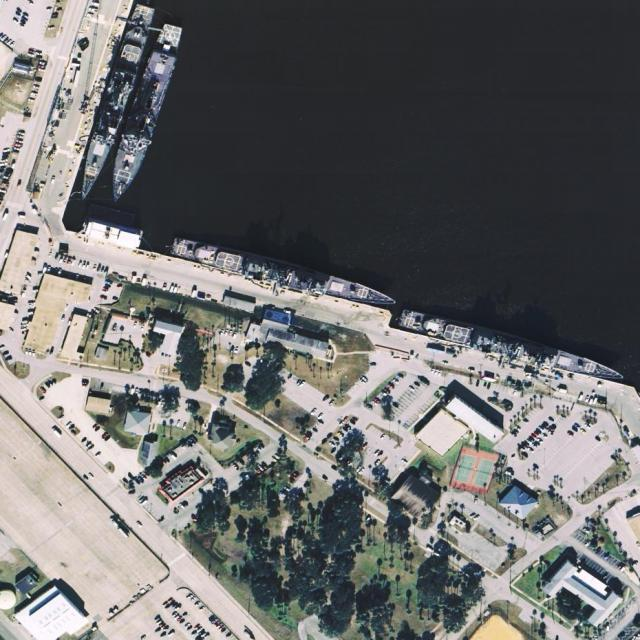Cruiser: (396, 310, 626, 386), (169, 237, 399, 311), (73, 3, 156, 201)
Destroyer: (103, 19, 184, 205)
